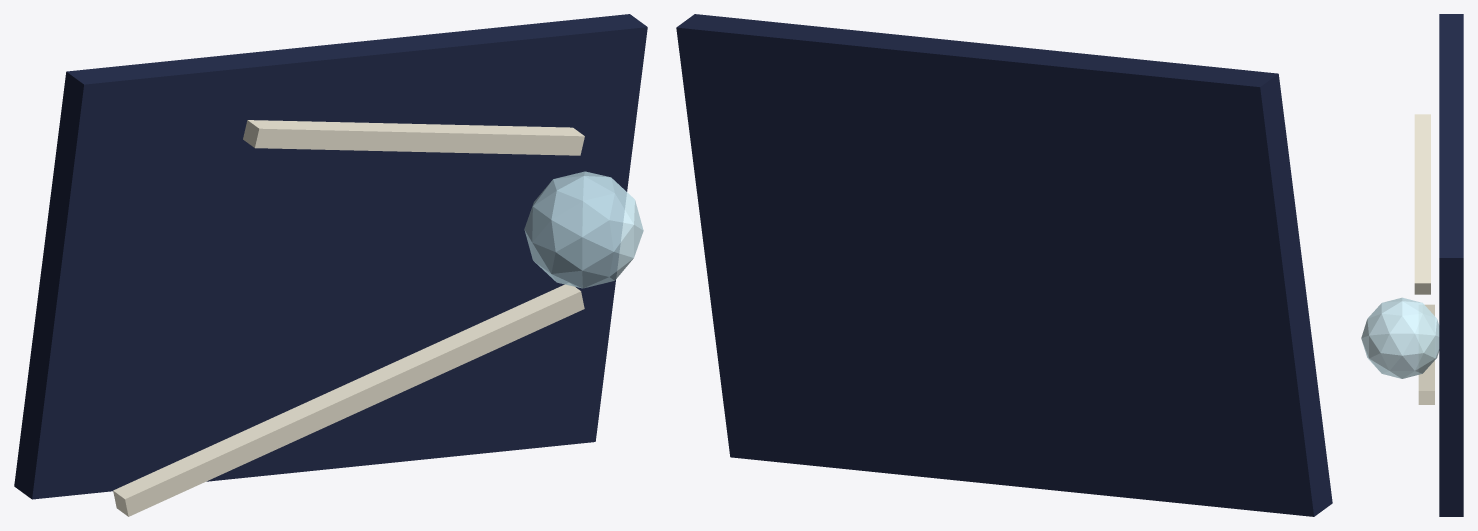
File: 02_world_prop_polish.glb
The picture shows the model from 3 angles, left to right: view 1: azimuth 30°, elevation 25°; view 2: azimuth 150°, elevation 25°; view 3: azimuth 270°, elevation 25°; orthographic projection. The views are drawn at different scales.
Visible parts, largest first — view 1: object_overlay_plate, edge_wear_a, glow_socket, edge_wear_b; view 2: object_overlay_plate; view 3: object_overlay_plate, glow_socket, edge_wear_b, edge_wear_a.
Boxes of the visible parts, <box> form: object_overlay_plate: <box>14,14,647,499</box>; edge_wear_a: <box>113,283,584,516</box>; glow_socket: <box>524,171,643,288</box>; edge_wear_b: <box>243,120,584,155</box>; object_overlay_plate: <box>676,14,1332,516</box>; object_overlay_plate: <box>1439,14,1463,516</box>; glow_socket: <box>1361,297,1439,378</box>; edge_wear_b: <box>1414,114,1430,294</box>; edge_wear_a: <box>1418,304,1434,404</box>.
Size of the model in its own units: 1.19 by 0.891 by 0.25.
